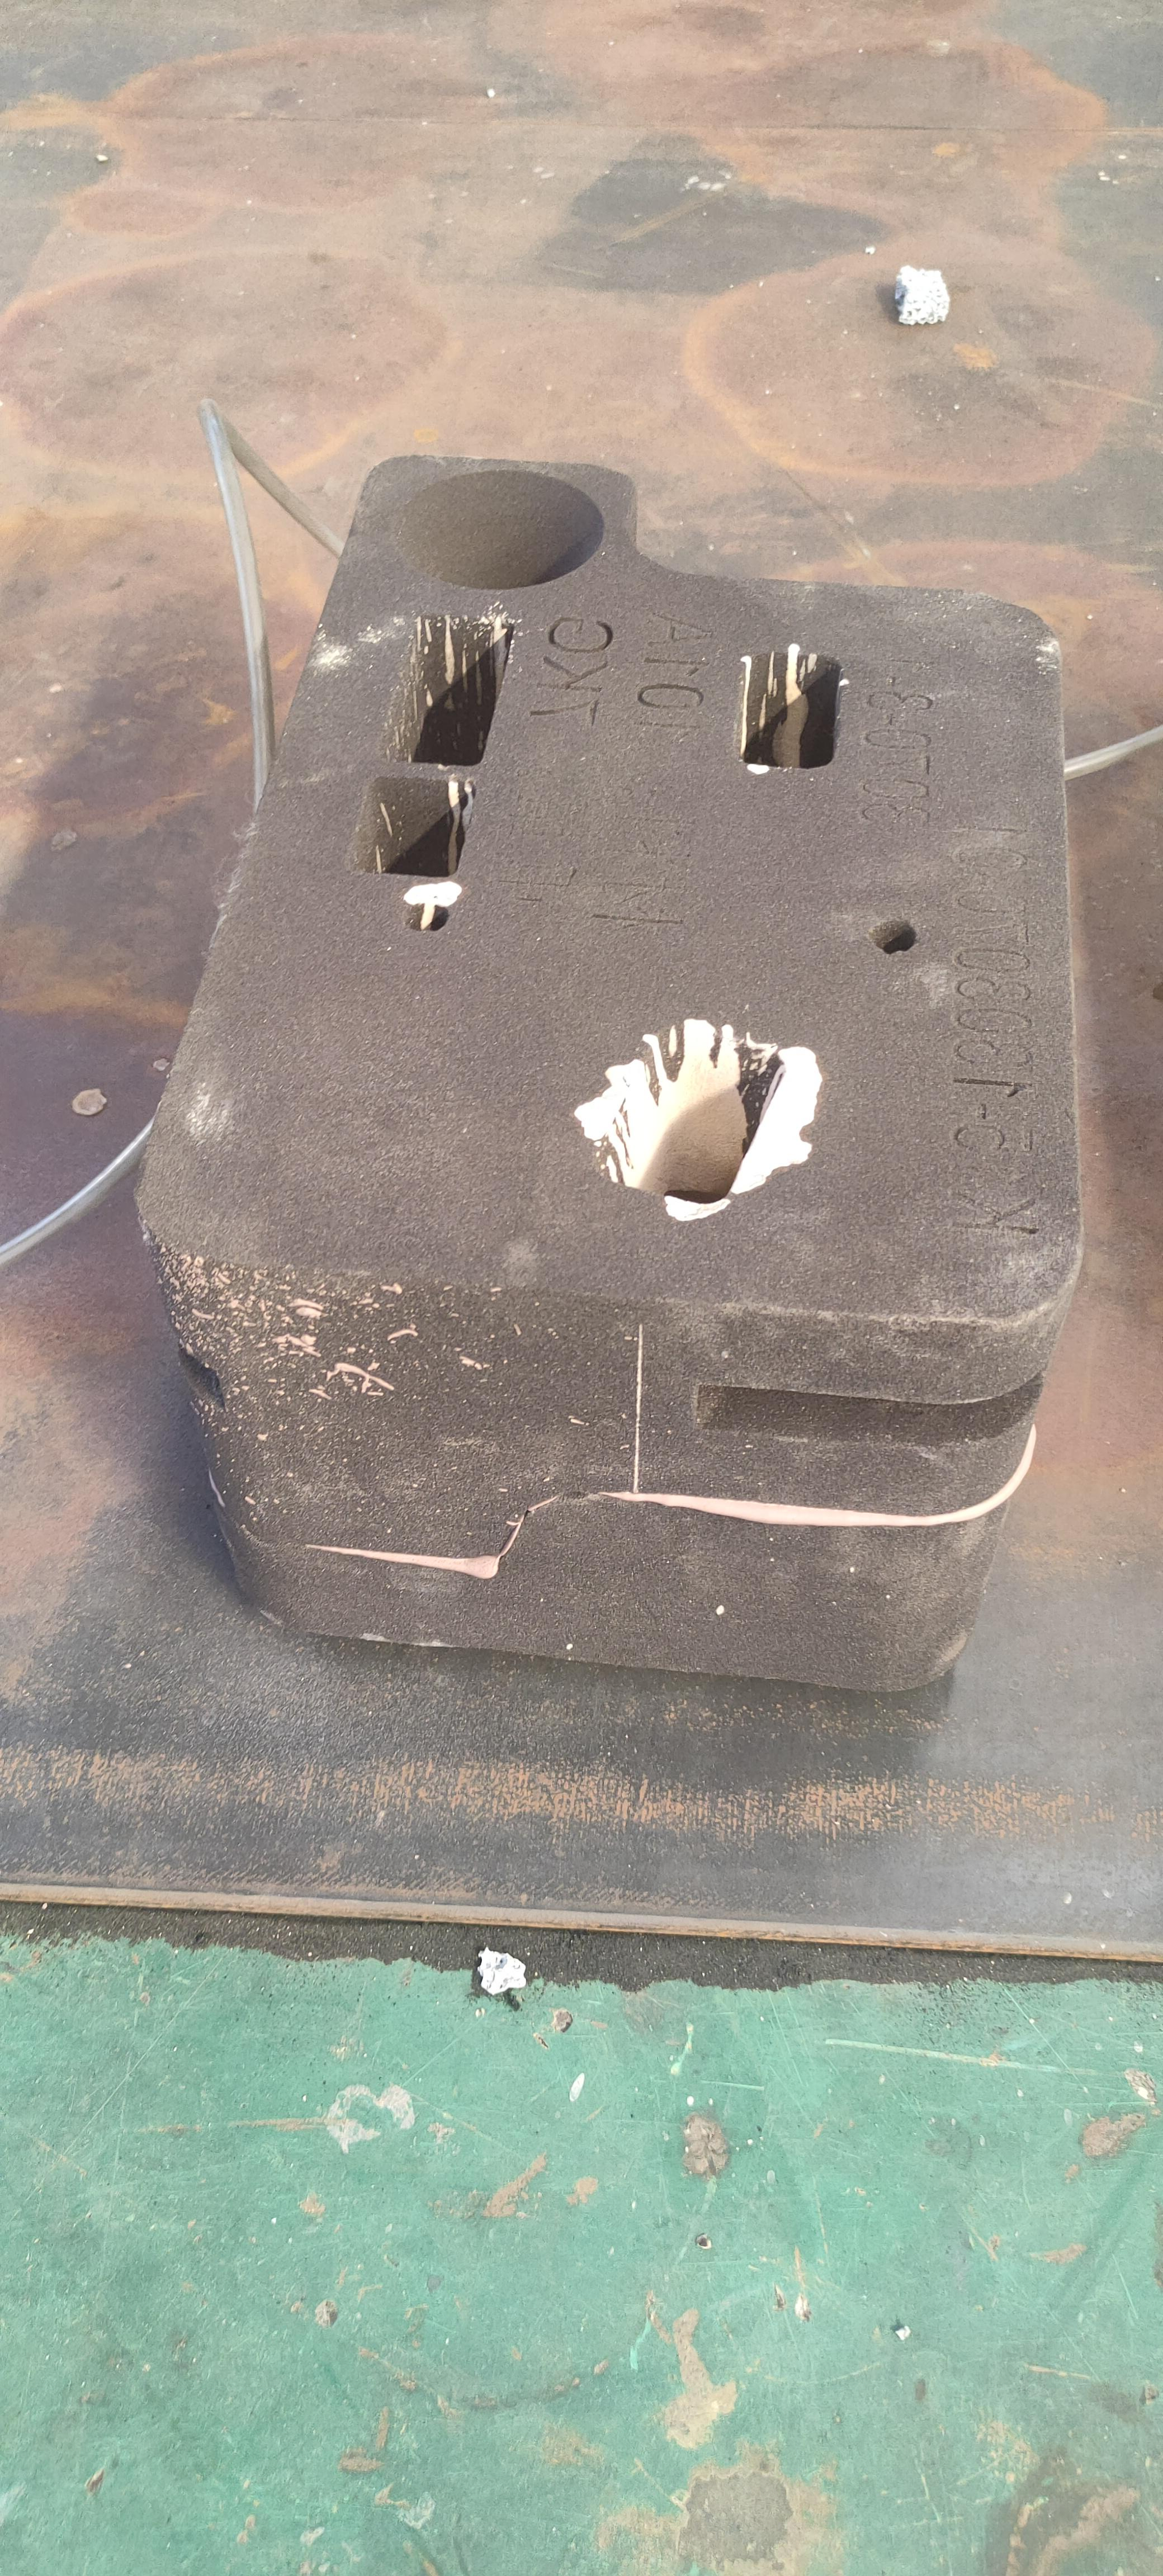pouring hole: (394, 471, 606, 590)
